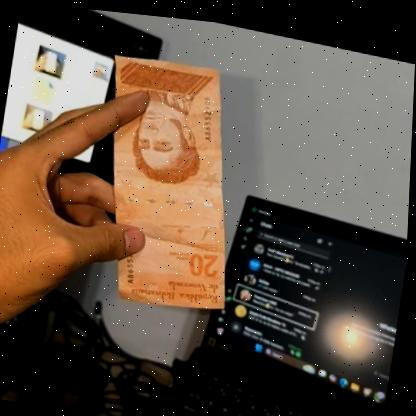twenty-front-vef: (81, 42, 259, 318)
